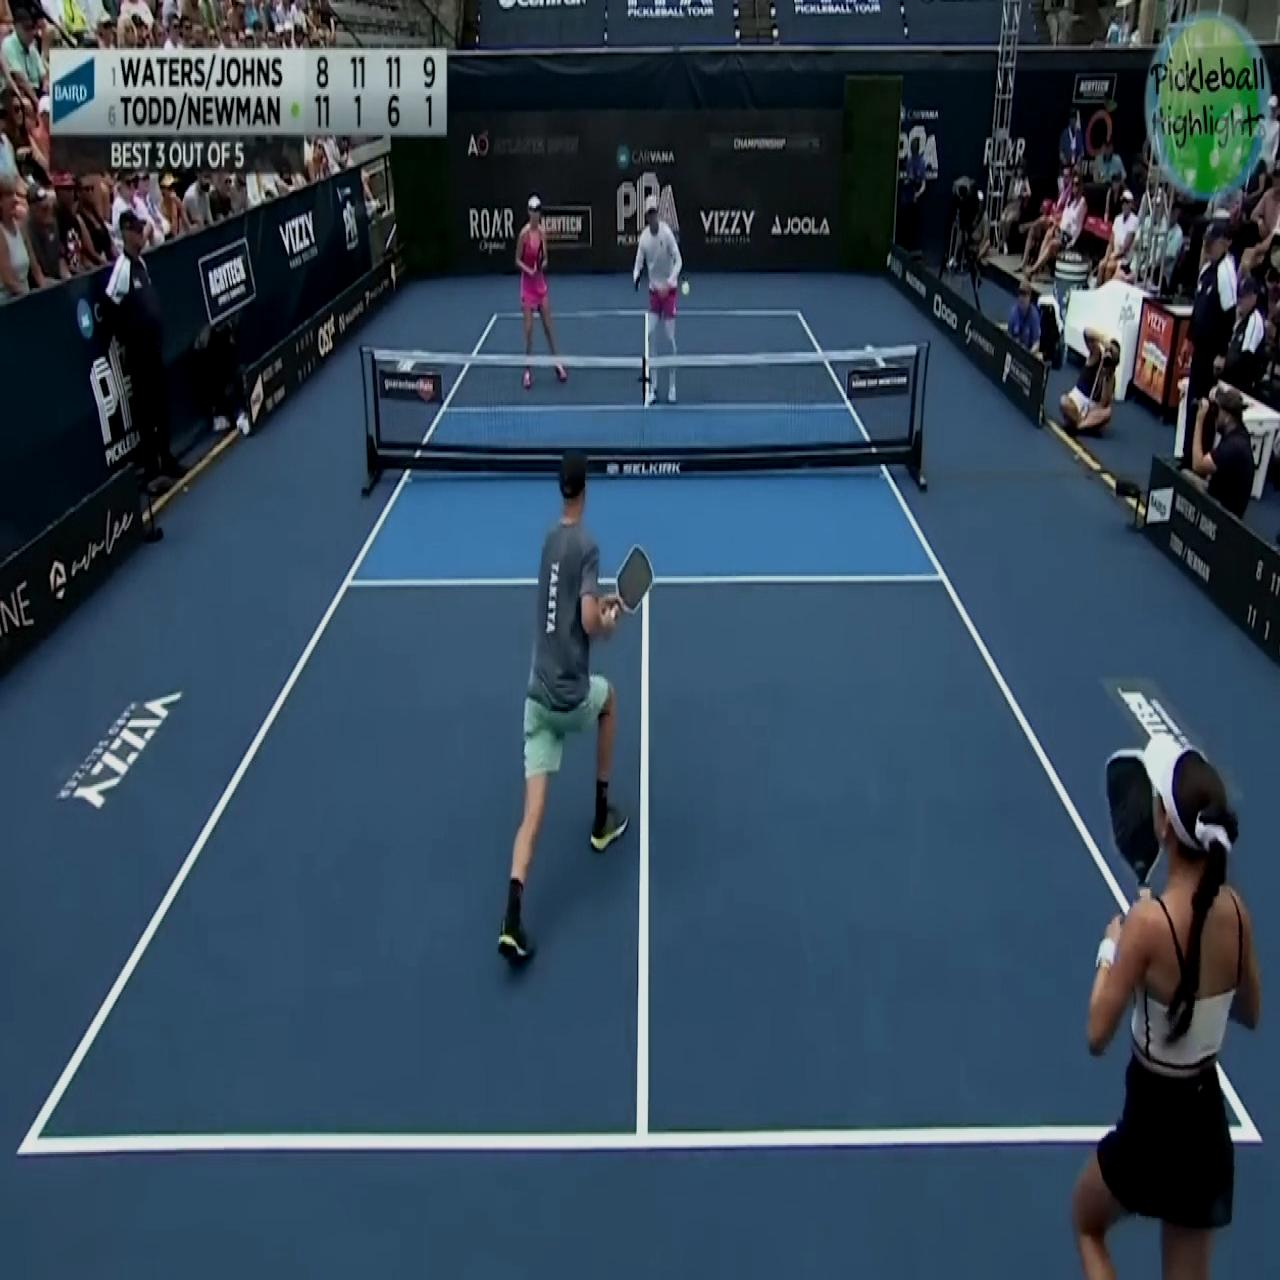Pickleball: (680, 275, 692, 299)
